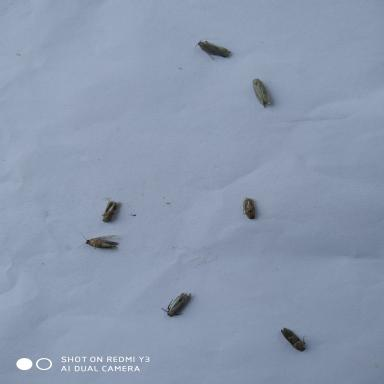pbw: (74, 229, 126, 257), (188, 34, 238, 63), (275, 325, 312, 359), (161, 287, 198, 320), (247, 74, 276, 111), (97, 197, 124, 227), (236, 193, 260, 223)
